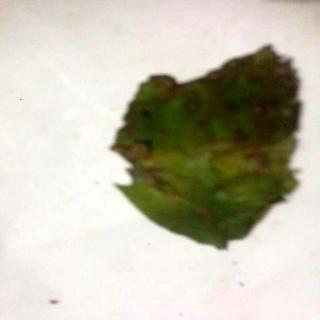Red Leaf Spot: (110, 47, 304, 250)
